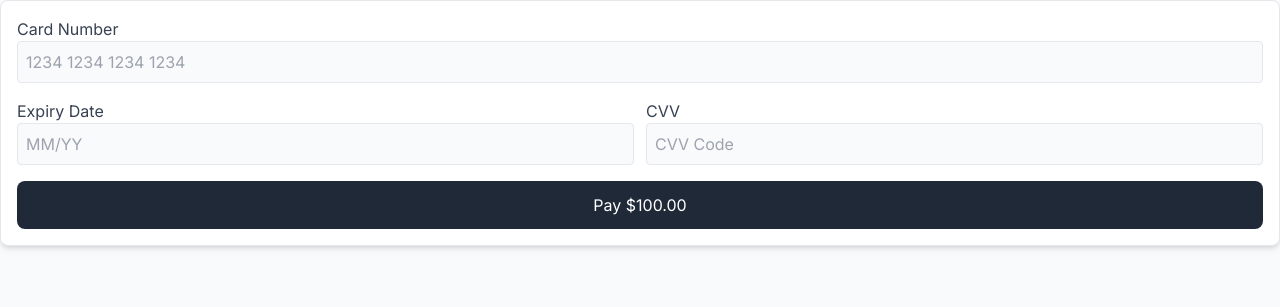
Scenario: PaymentCard Component › validates card number input
// Enter invalid card number
Type "1234" into the field labelled "Card Number" at (640, 62), box x1=17 y1=41 x2=1263 y2=83
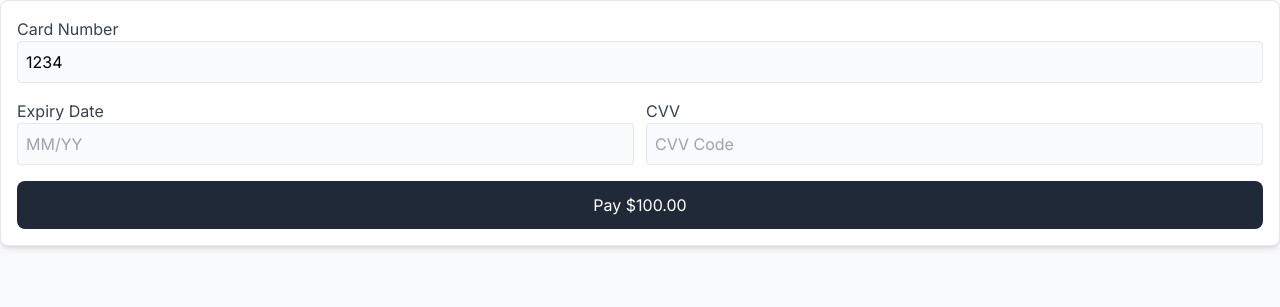
Submit the form
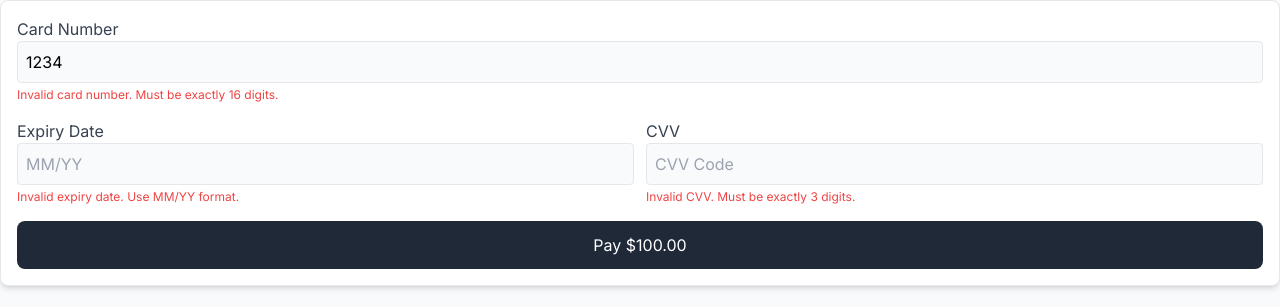
Expected: the text "Invalid card number. Must be exactly 16 digits." is shown, x1=17 y1=87 x2=278 y2=102
